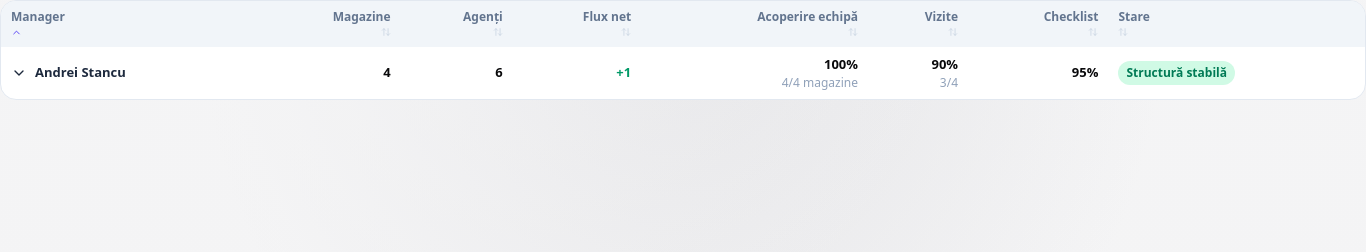
ManagerDesktopTable › expands a manager row and reveals the store portfolio
Check: the text "Magazin Centru" is not shown
Click the button "Andrei Stancu" at (128, 73), box [11, 63, 244, 82]
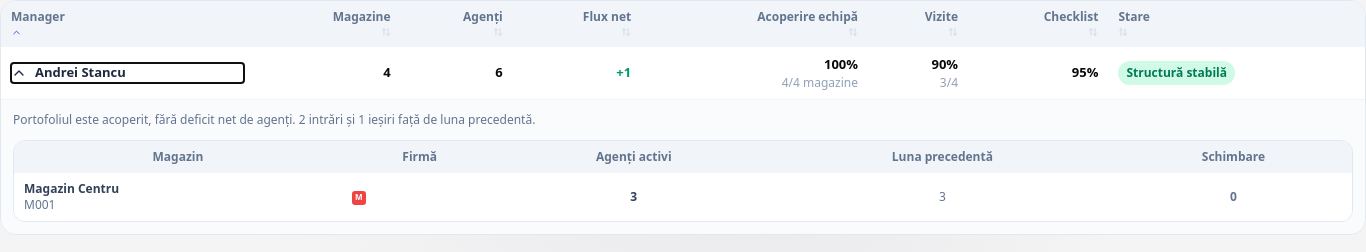
Check: the text "Magazin Centru" is shown, box [24, 180, 119, 196]
